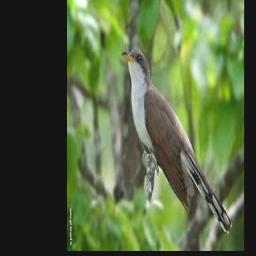Cuckoo: (122, 49, 232, 233)
